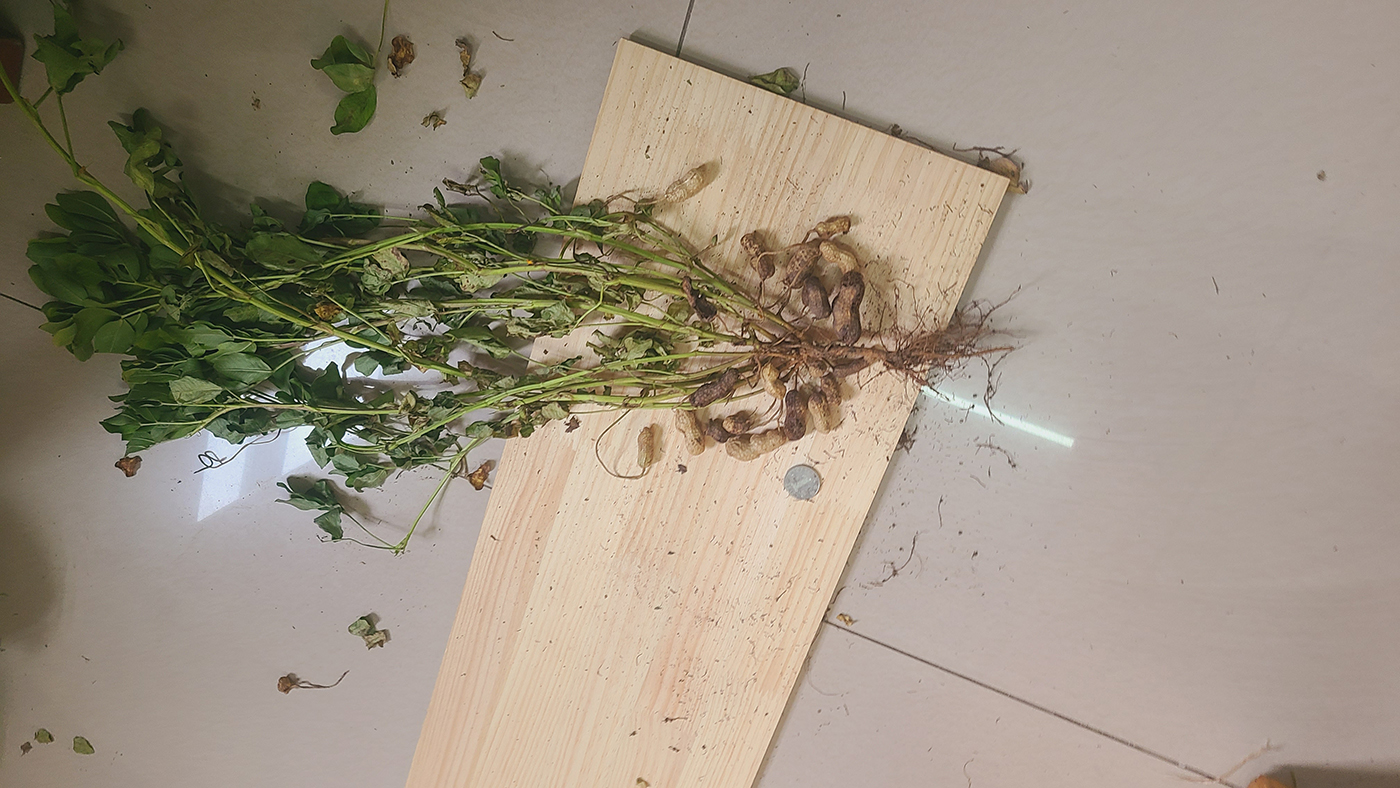h: (725, 430, 786, 461), (665, 168, 706, 204), (675, 410, 706, 455), (819, 241, 860, 275), (808, 392, 831, 435), (761, 363, 787, 398), (814, 217, 851, 238), (637, 427, 654, 469)
l: (832, 274, 865, 346), (689, 368, 739, 408), (740, 233, 776, 280), (679, 275, 714, 321), (785, 247, 819, 288), (802, 275, 831, 319), (785, 389, 807, 440), (821, 374, 842, 406), (707, 418, 729, 443), (723, 415, 750, 434)
